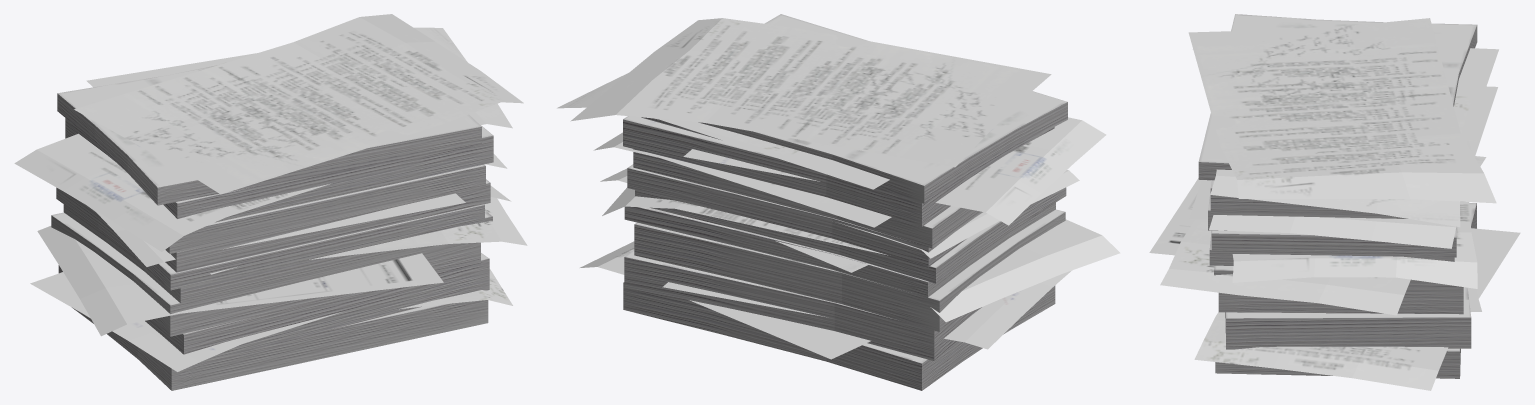
File: office_paperstack_cube.fbx
The picture shows the model from 3 angles, left to right: view 1: azimuth 30°, elevation 25°; view 2: azimuth 150°, elevation 25°; view 3: azimuth 270°, elevation 25°; orthographic projection.
Parts seen in each view (by area): view 1: office_paperstack_cube; view 2: office_paperstack_cube; view 3: office_paperstack_cube.
Part boxes in pixels (x1=…): office_paperstack_cube: x1=14, y1=14, x2=527, y2=390; office_paperstack_cube: x1=557, y1=14, x2=1120, y2=390; office_paperstack_cube: x1=1149, y1=14, x2=1520, y2=390.
Bounding box in the file's own units: 2.43 × 1.07 × 1.74.
